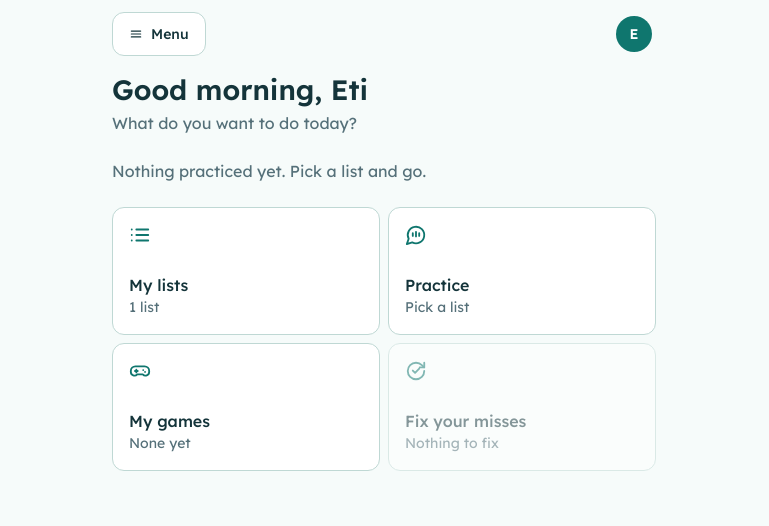
saving over someone else’s newer edit (016 D-8) › asks first, naming who changed it, and keeps theirs on Cancel
Click the button "Menu" at x=159, y=34, box 112,12 -> 206,56
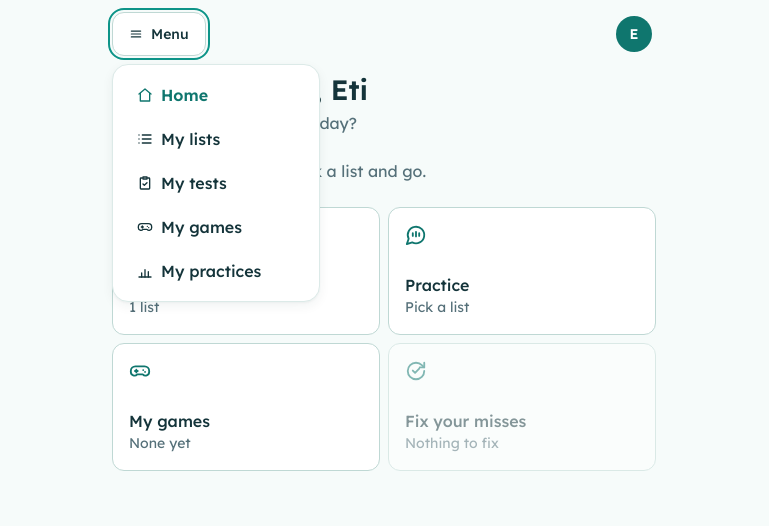
Click the menu item "My lists" at x=216, y=139, box 121,117 -> 311,161
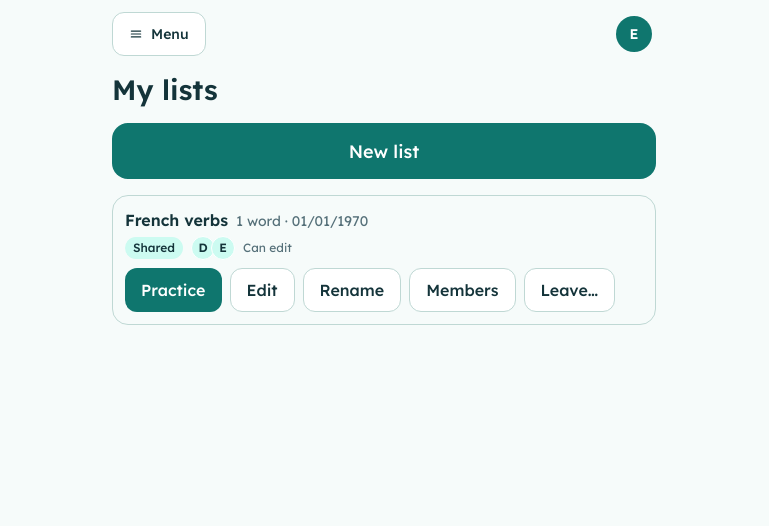
Click the button "Edit" at x=262, y=290, box 230,268 -> 295,312
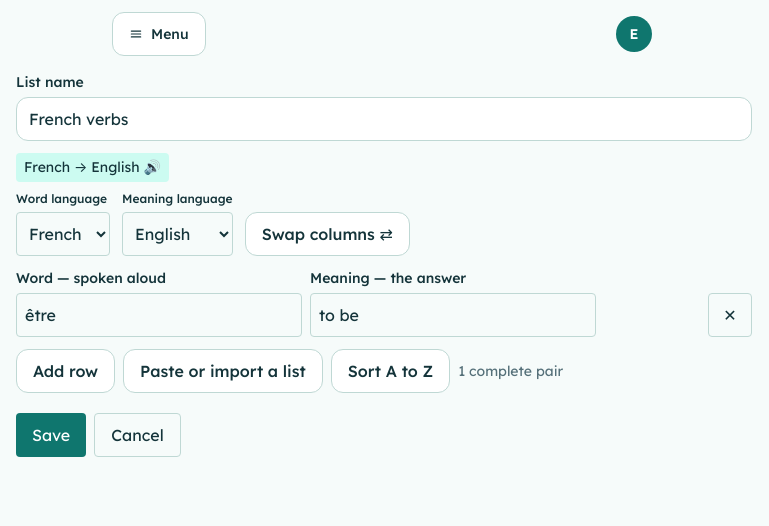
Result: the button "Save" is shown
Click the button "Save" at x=51, y=435, box 16,413 -> 86,457
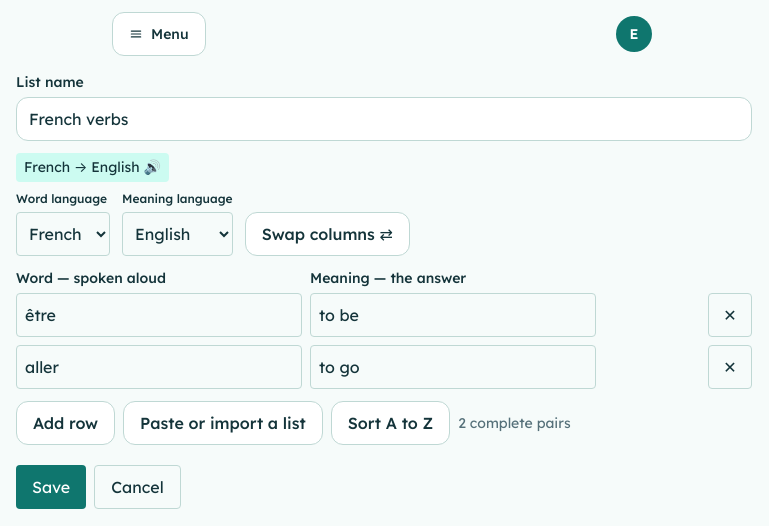
Result: the field showing "aller" is shown at 16,345 -> 302,389
